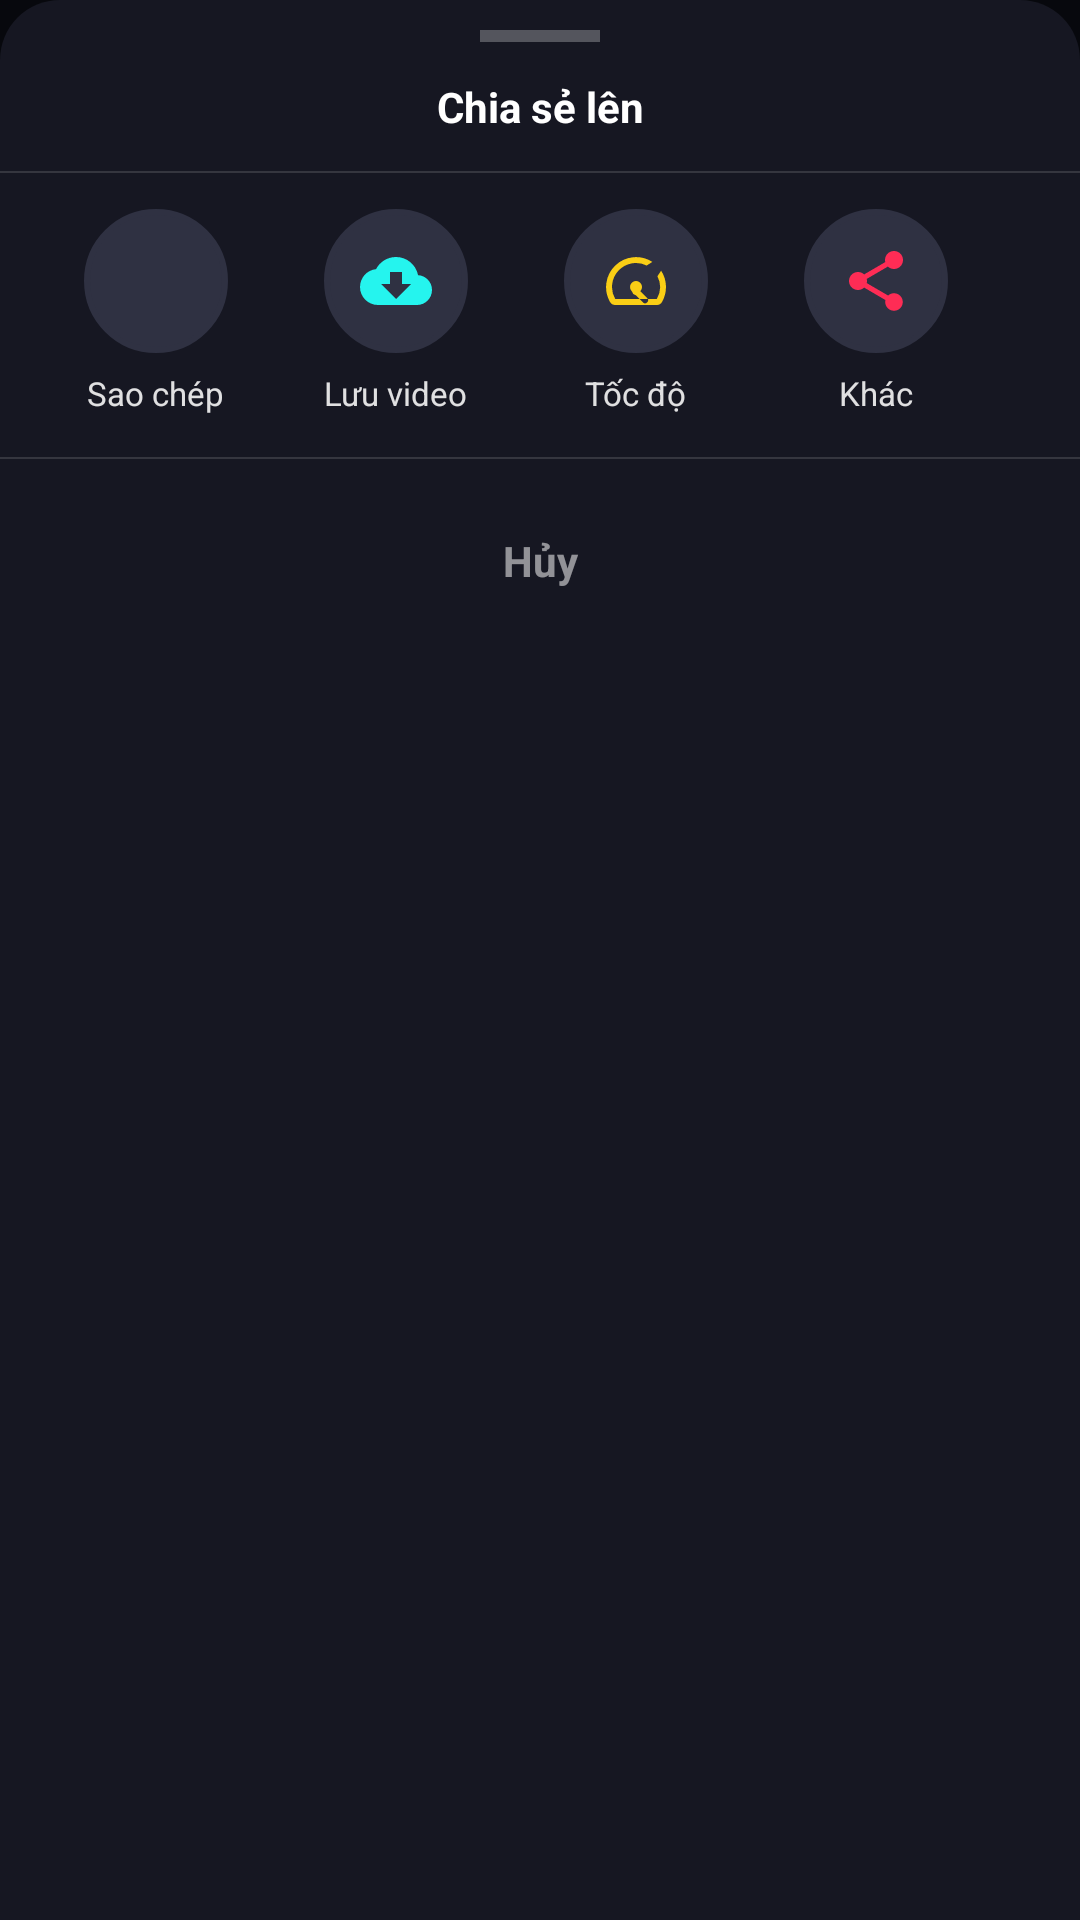

Screen size 1080w x 1920h. Icon name, then its center in pixels as [x,y]:
share: [876,281]
